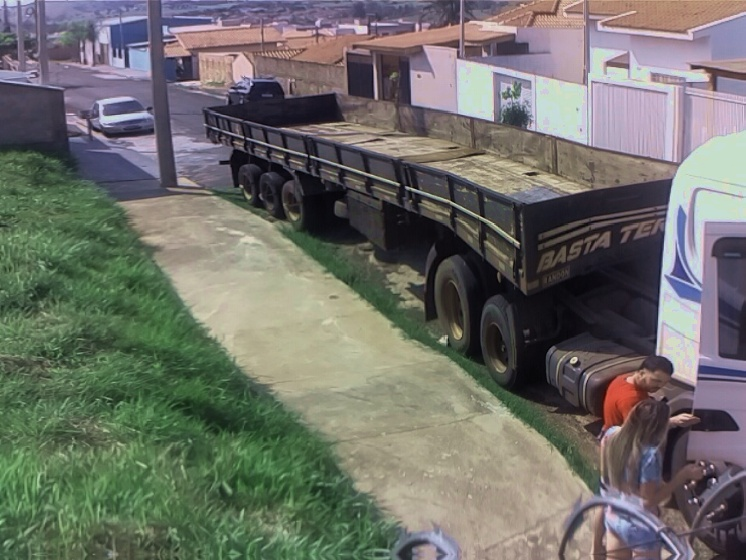person: (602, 355, 699, 560), (597, 399, 701, 560)
